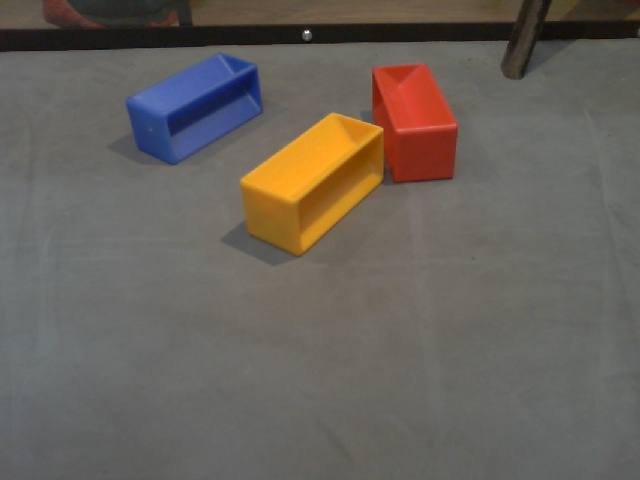BlueSample: (125, 50, 264, 167)
RedSample: (368, 61, 461, 186)
YellowSample: (238, 110, 387, 258)
